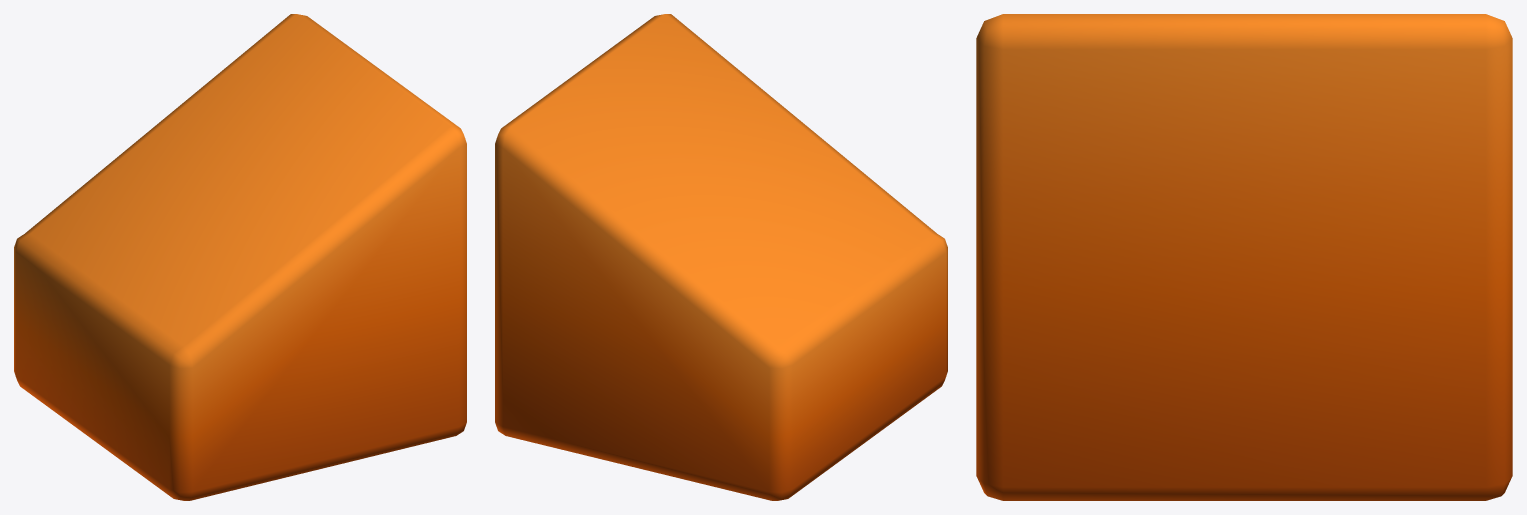
The model's file is 3D_Tile_Ground_Slope_03A.glb.
3 views of the same model, side by side, from view 1: azimuth 30°, elevation 25°; view 2: azimuth 150°, elevation 25°; view 3: azimuth 270°, elevation 25° (orthographic). The views are drawn at different scales.
Parts seen in each view (by area): view 1: 3D_Tile_Ground_Slope_03A; view 2: 3D_Tile_Ground_Slope_03A; view 3: 3D_Tile_Ground_Slope_03A.
Boxes of the visible parts, box(x1,y1,x2,y2) form: 3D_Tile_Ground_Slope_03A: box(14, 14, 466, 500); 3D_Tile_Ground_Slope_03A: box(495, 14, 947, 500); 3D_Tile_Ground_Slope_03A: box(976, 14, 1512, 500).
Bounding box in the file's own units: 2 × 2 × 2.
Materials: 1 (1 with a texture image).
